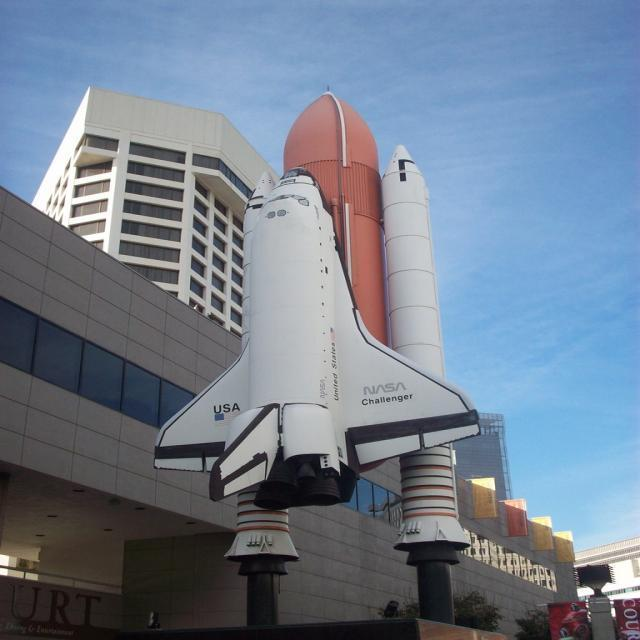missile: (150, 80, 489, 577)
